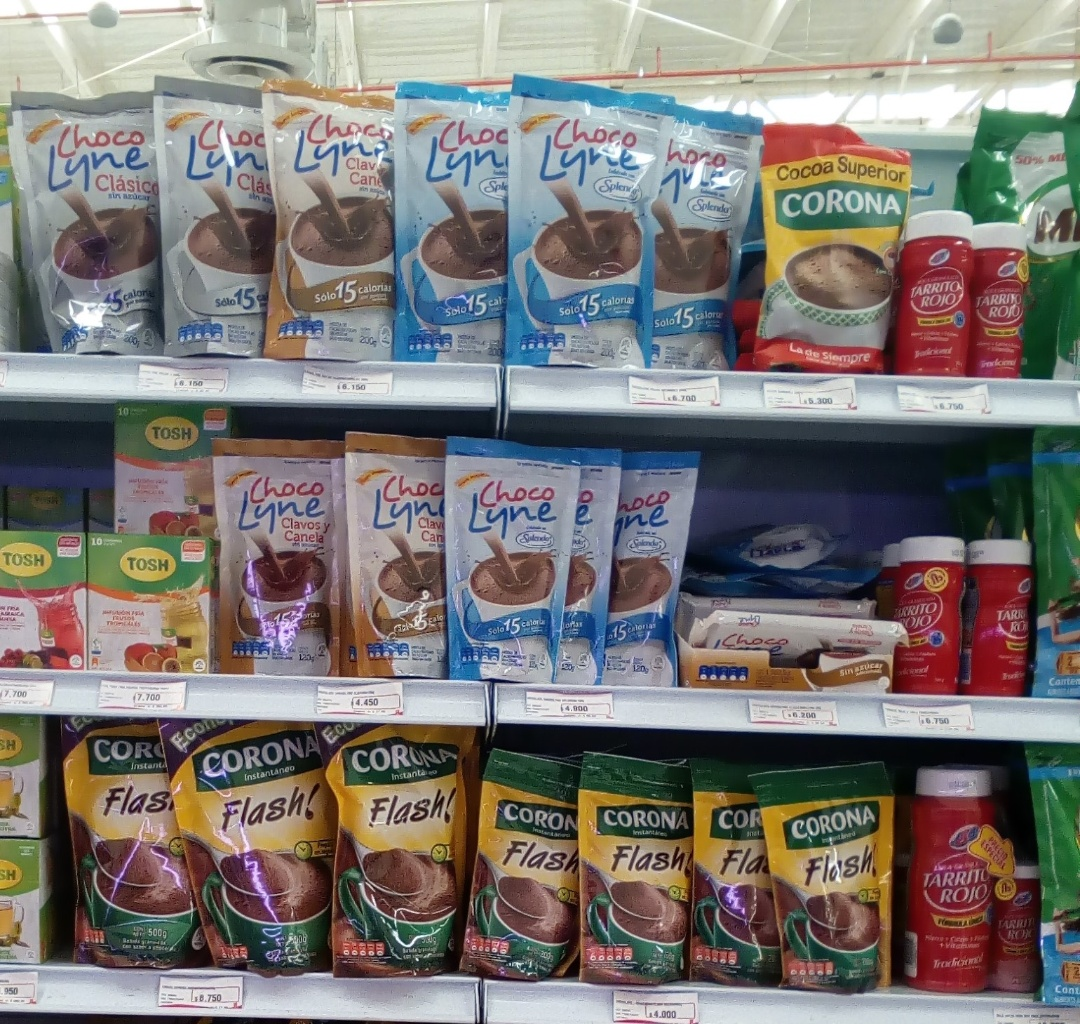COL0170205DYP50000: (1022, 748, 1078, 1009)
